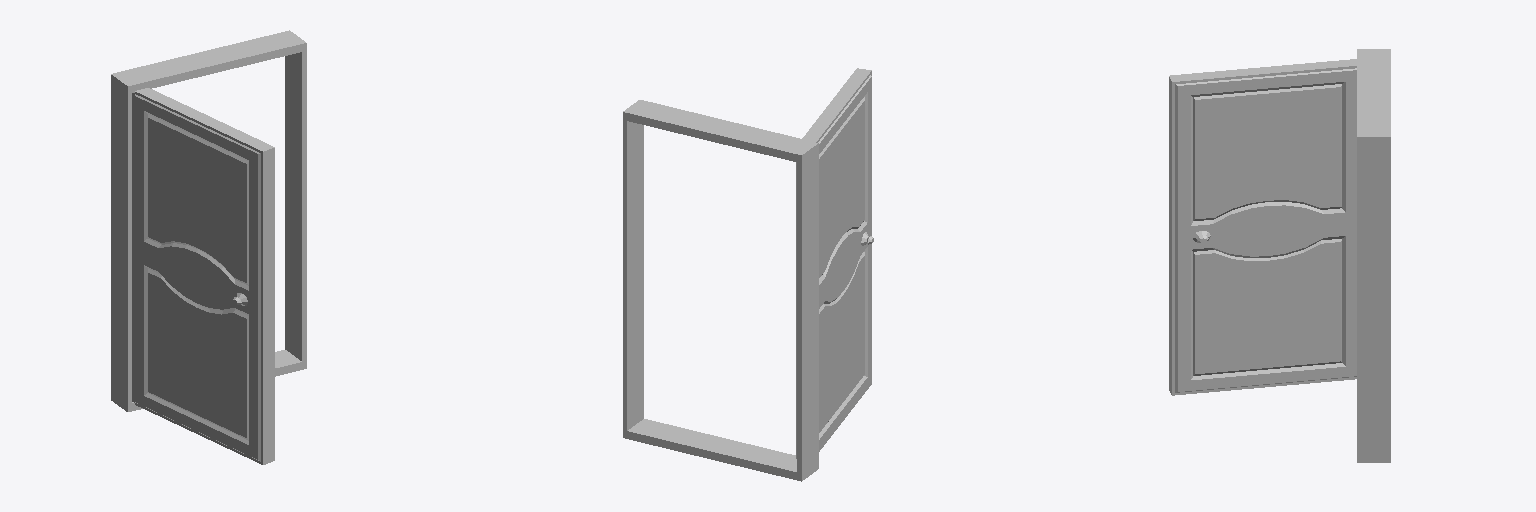
The model's file is drzwiok_000011.obj.
3 views of the same model, side by side, from view 1: azimuth 30°, elevation 25°; view 2: azimuth 150°, elevation 25°; view 3: azimuth 270°, elevation 25° (orthographic).
Parts seen in each view (by area): view 1: Door_4.001_Cube.001, Kostka; view 2: Kostka, Door_4.001_Cube.001; view 3: Door_4.001_Cube.001, Kostka.
Part boxes in pixels (left/top/right/bottom): Door_4.001_Cube.001: left=132, top=88, right=274, bottom=464; Kostka: left=111, top=30, right=306, bottom=411; Kostka: left=623, top=100, right=818, bottom=481; Door_4.001_Cube.001: left=796, top=68, right=873, bottom=458; Door_4.001_Cube.001: left=1169, top=59, right=1356, bottom=395; Kostka: left=1357, top=49, right=1390, bottom=462.
Size of the model in its own units: 0.7416 by 1.29 by 0.7993.